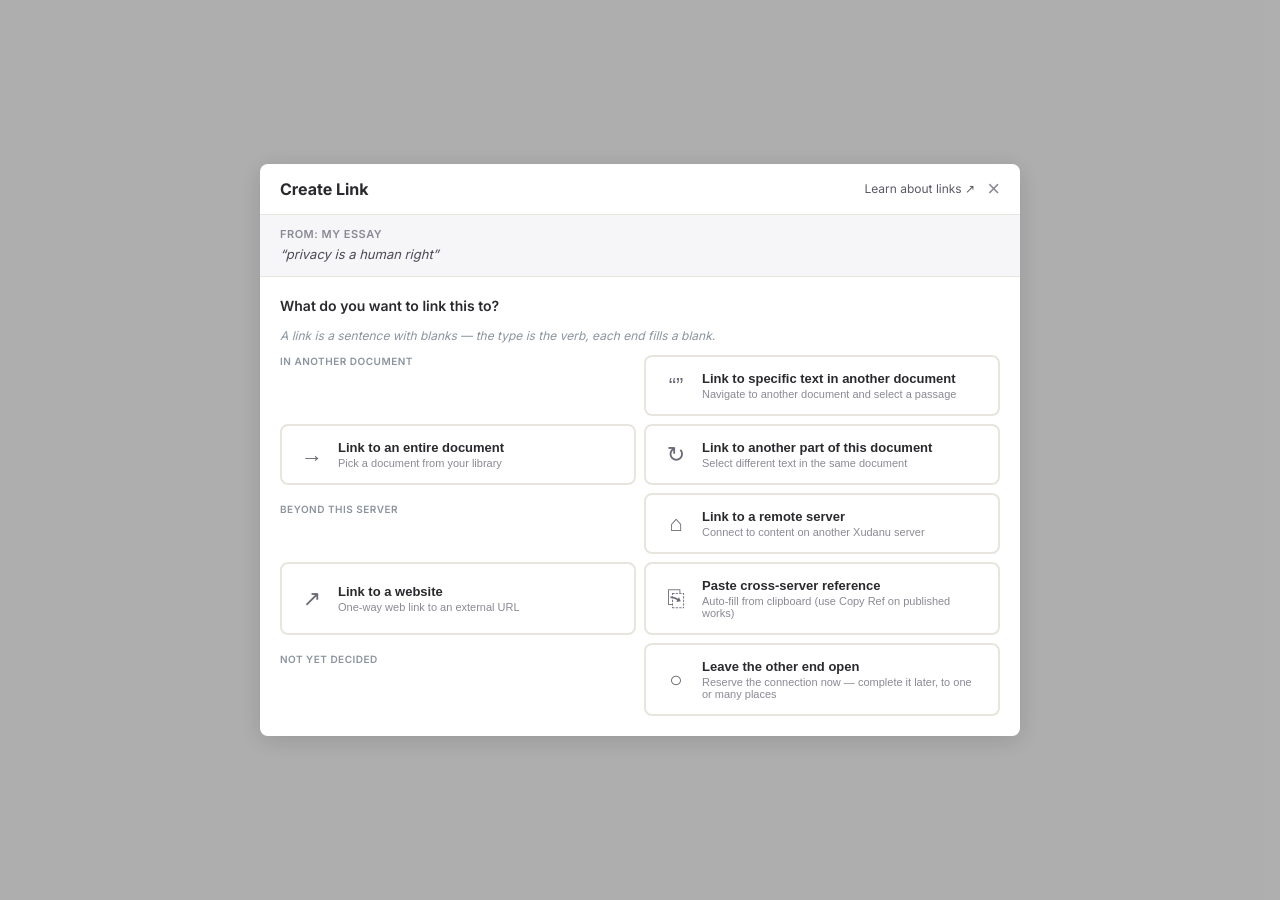
Test: LinkCreator › shows type grid after picking a work
This screenshot has width=1280, height=900.
Click the text "Link to an entire document" at (421, 448), box [338,440,504,455]
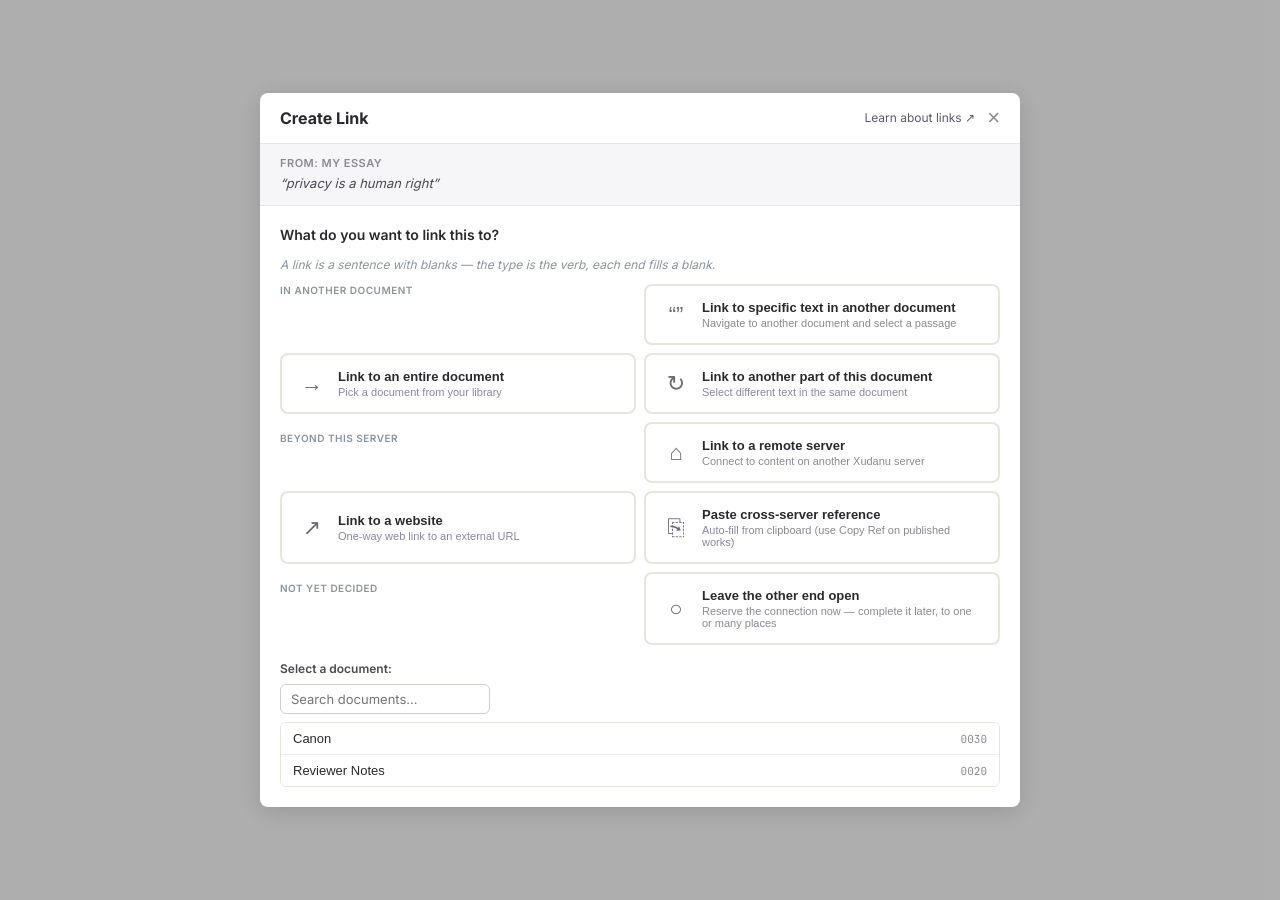
Click the text "Reviewer Notes" at (339, 771), box [293,763,385,778]
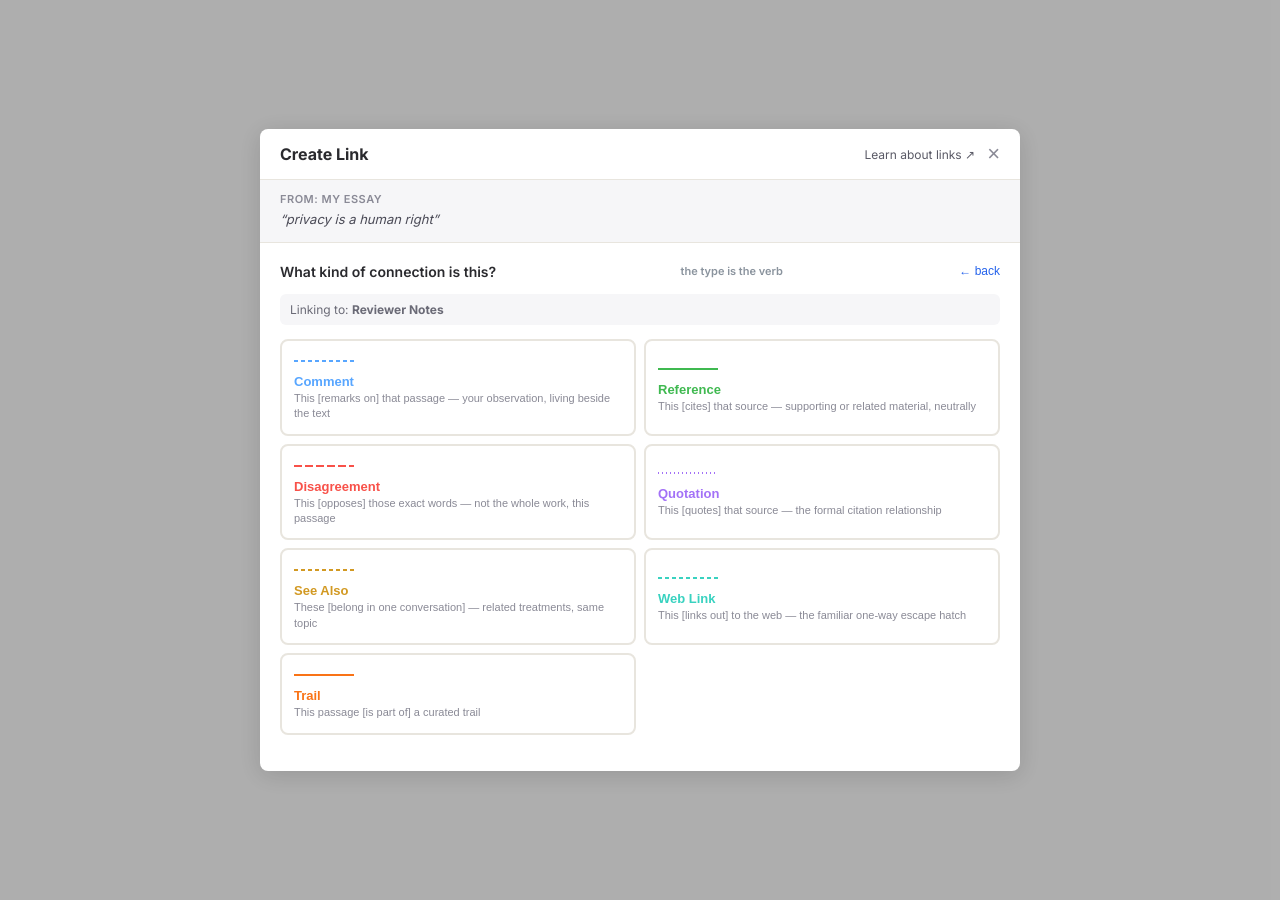
Now the text "What kind of connection is this? the type is the verb ← back" is shown, box [280,263,1000,280]
Now the text "Comment" is shown, box [294,374,354,389]
Now the text "Disagreement" is shown, box [294,479,380,494]
